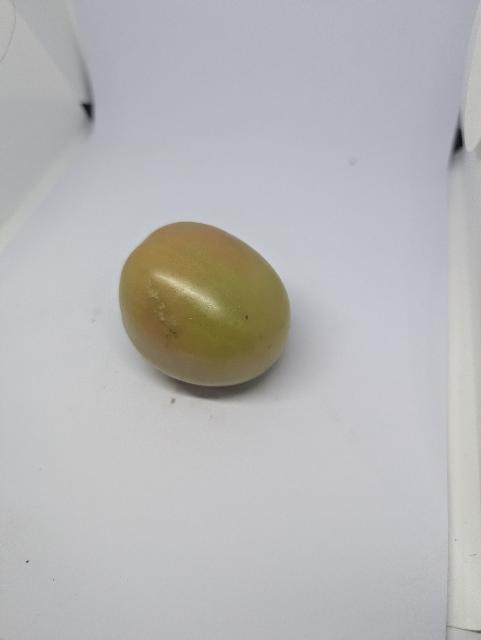breaker: (119, 222, 291, 387)
